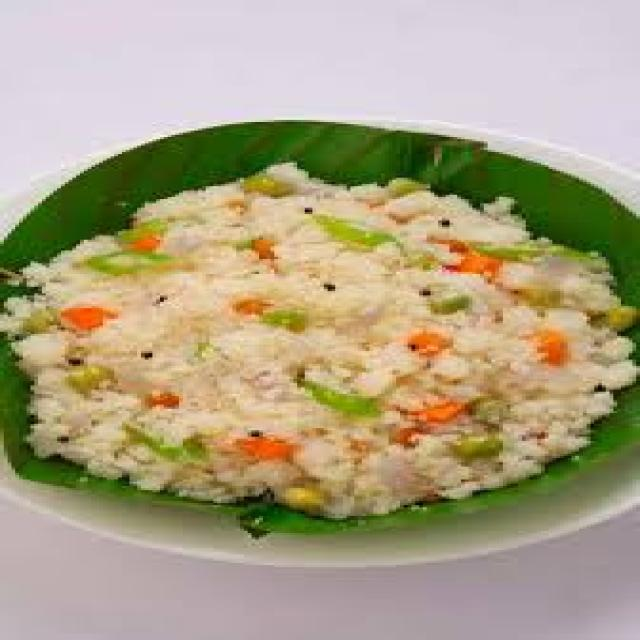UPMA: (4, 161, 636, 514)
